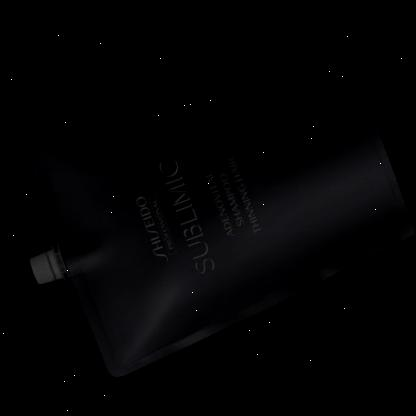Others: (25, 52, 416, 376)
